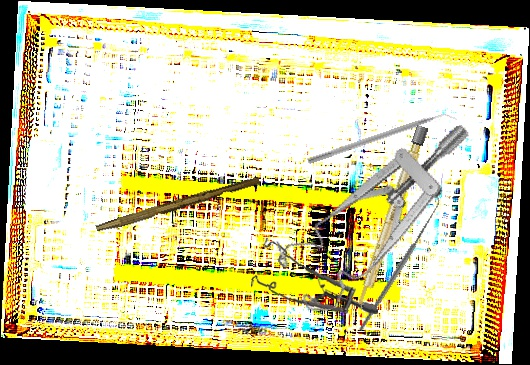Chopper: (306, 108, 459, 172)
Hook Surgical: (319, 193, 478, 333)
Scalpel Handle: (354, 124, 429, 312), (95, 173, 261, 237)
Speculum: (255, 123, 511, 321), (247, 229, 378, 325)
